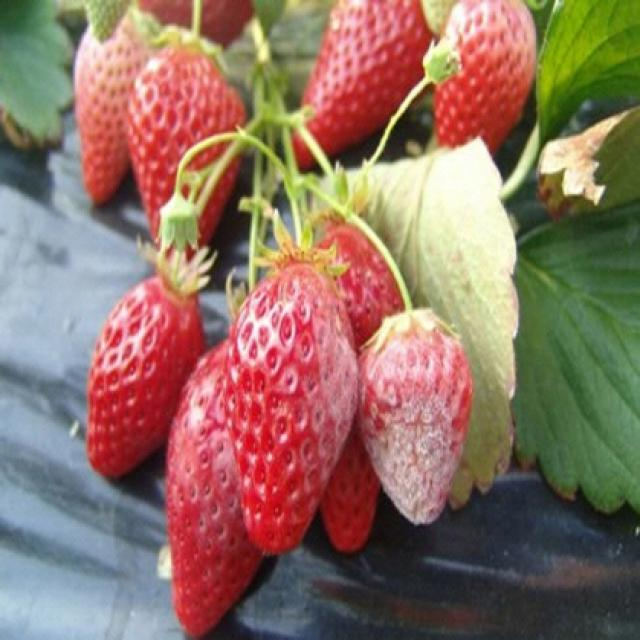Powdery Mildew Fruit: (221, 256, 361, 558), (355, 308, 476, 529)
